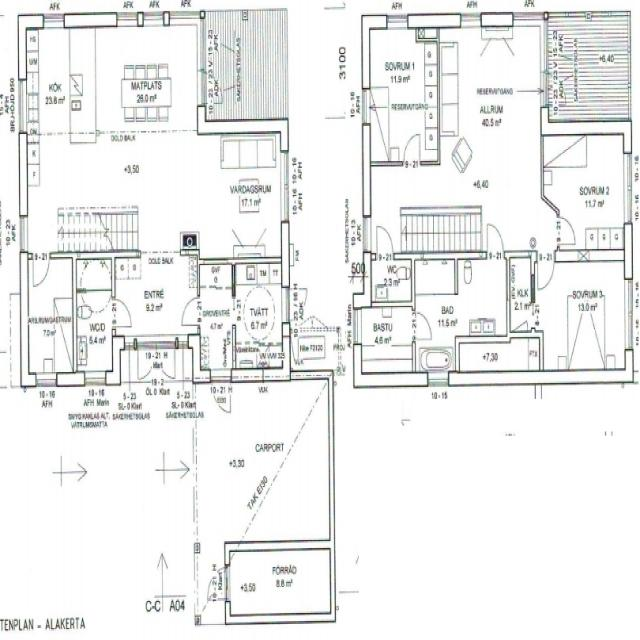door: (210, 368, 232, 418), (197, 72, 226, 105), (204, 565, 230, 601), (156, 337, 176, 383), (136, 337, 156, 383), (281, 287, 308, 321), (540, 73, 567, 107), (537, 250, 555, 293), (486, 220, 503, 258), (179, 296, 200, 326), (113, 298, 133, 329), (33, 250, 50, 286), (410, 312, 431, 341), (403, 130, 420, 165), (378, 223, 393, 258), (557, 219, 576, 245), (513, 308, 527, 337)
